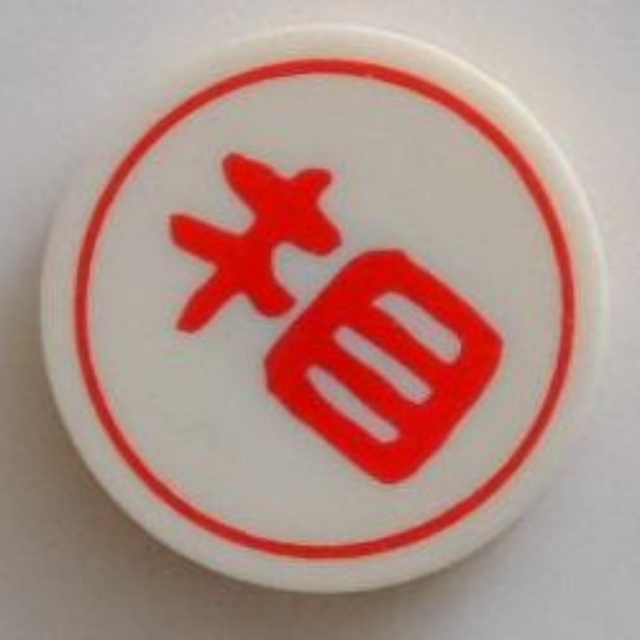red_bo: (33, 28, 622, 603)
